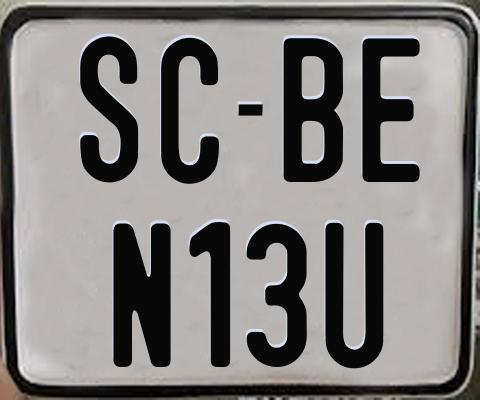1: (188, 221, 230, 370)
3: (245, 224, 307, 373)
B: (283, 38, 346, 188)
C: (160, 37, 220, 188)
E: (360, 35, 418, 180)
N: (112, 223, 175, 373)
S: (80, 34, 139, 187)
U: (322, 221, 384, 369)
